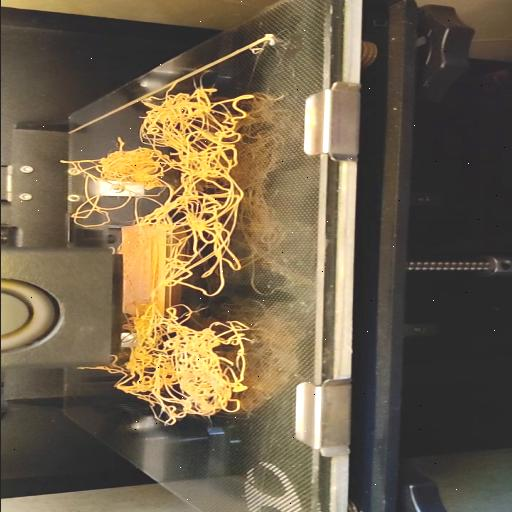spaghetti: (56, 94, 246, 247), (118, 248, 255, 424)
